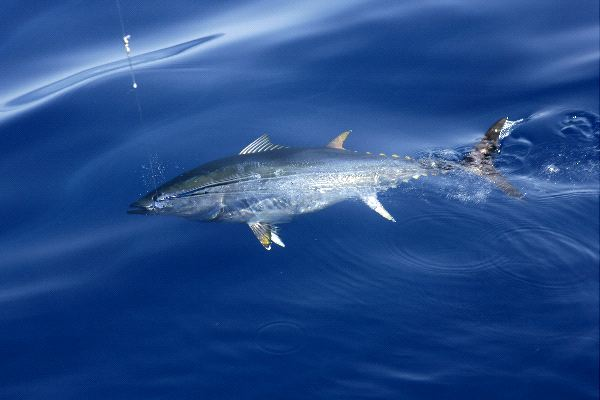Bluefina Tuna: (125, 118, 524, 254)
